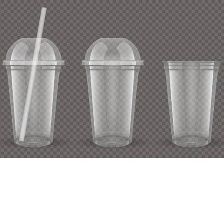glass: (0, 31, 70, 149), (79, 35, 146, 150), (157, 54, 221, 149), (16, 3, 51, 143)
